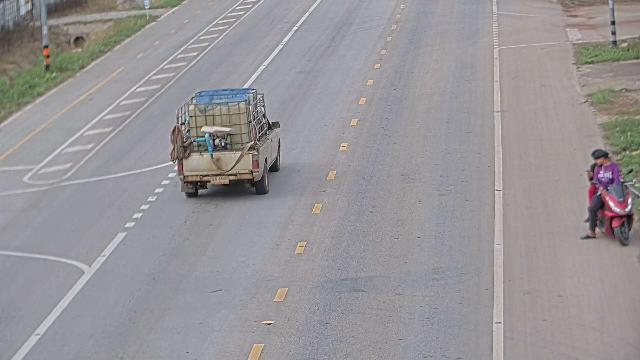pickup-truck: (169, 86, 282, 197)
